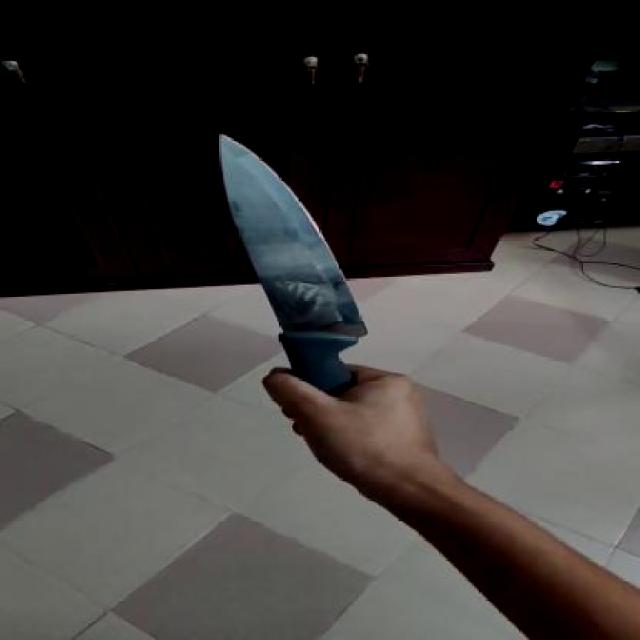knife: (177, 130, 369, 348)
